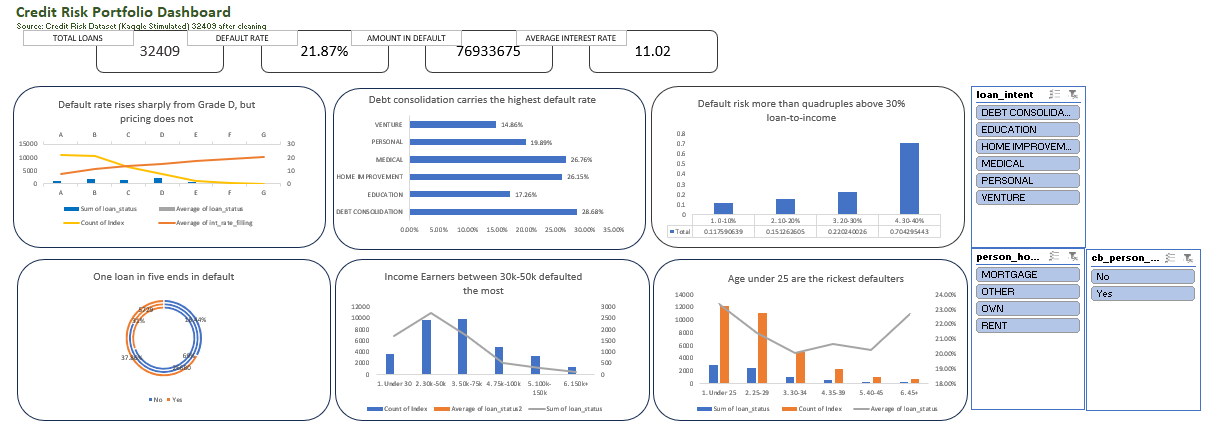

The dashboard page shown, as its layout file describes it:
{"tool":"powerbi","page":{"name":"Portfolio Overview","canvas":[1280,720],"ordinal":0},"visuals":[{"type":"card","title":"Total Loans","fields":{"Values":["_Measures.Total Loans"]},"box":[0,75.7,280,95.7],"z":0},{"type":"card","title":"Default Rate","fields":{"Values":["_Measures.Default Rate"]},"box":[280,75.7,280,95.7],"z":1000},{"type":"card","title":"Default Amount","fields":{"Values":["_Measures.Amount in Default"]},"box":[558.6,75.7,278.6,95.7],"z":2000},{"type":"card","title":"% of Book at Risk","fields":{"Values":["_Measures.% of Book in Default"]},"box":[840,75.7,280,95.7],"z":3000},{"type":"lineStackedColumnComboChart","title":"Default rate rises far faster than interest rate","fields":{"Y":["_Measures.Default Rate"],"Y2":["_Measures.Avg Interest Rate"],"Category":["Loans.loan_grade"]},"box":[0,171.4,280,151.4],"z":4000},{"type":"clusteredBarChart","title":"Debt consolidation carries the highest default rate","fields":{"Category":["Loans.loan_intent"],"Y":["_Measures.Default Rate"]},"box":[278.6,171.4,280,151.4],"z":5000},{"type":"clusteredColumnChart","title":"Default rate triples once a loan passes 30% of income","fields":{"Category":["Loans.loan_to_income_band"],"Y":["_Measures.Default Rate"]},"box":[558.6,172.9,278.6,150],"z":6000},{"type":"donutChart","title":"Total Loans by defaulters holds almost 1/4 quarter of  the total loan","fields":{"Category":["Loans.default_label"],"Y":["_Measures.Total Loans"]},"box":[840,172.9,280,150],"z":7000},{"type":"textbox","box":[0,0,858.6,47.1],"z":8000},{"type":"slicer","title":"Grade","fields":{"Values":["Loans.loan_grade"]},"box":[0,387.5,280,151],"z":8001},{"type":"slicer","title":"Intent","fields":{"Values":["Loans.loan_intent"]},"box":[280,387.1,280,151.4],"z":8002},{"type":"slicer","title":"Home Ownership","fields":{"Values":["Loans.person_home_ownership"]},"box":[560,387,278,151],"z":8003},{"type":"slicer","title":"Defaults on file","fields":{"Values":["Loans.cb_person_default_on_file"]},"box":[840,387,280,151],"z":8004}]}

Visuals, with their boxes on the page's 1280x720 design canvas (x1, y1, x2, y2). These are canvas units, not pixel positions in the 1216x432 screenshot, which may show the page scaled, cropped or inside an application window:
"Total Loans" card: l=0, t=76, r=280, b=171
"Default Rate" card: l=280, t=76, r=560, b=171
"Default Amount" card: l=559, t=76, r=837, b=171
"% of Book at Risk" card: l=840, t=76, r=1120, b=171
"Default rate rises far faster than interest rate" lineStackedColumnComboChart: l=0, t=171, r=280, b=323
"Debt consolidation carries the highest default rate" clusteredBarChart: l=279, t=171, r=559, b=323
"Default rate triples once a loan passes 30% of income" clusteredColumnChart: l=559, t=173, r=837, b=323
"Total Loans by defaulters holds almost 1/4 quarter of  the total loan" donutChart: l=840, t=173, r=1120, b=323
textbox: l=0, t=0, r=859, b=47
"Grade" slicer: l=0, t=388, r=280, b=538
"Intent" slicer: l=280, t=387, r=560, b=538
"Home Ownership" slicer: l=560, t=387, r=838, b=538
"Defaults on file" slicer: l=840, t=387, r=1120, b=538
